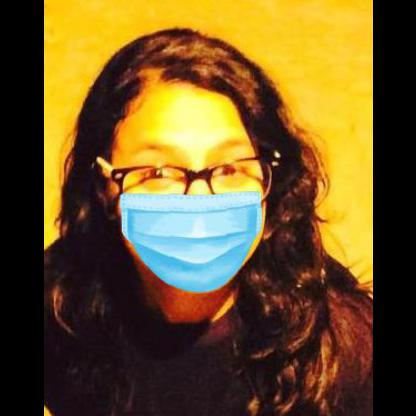Surgical Mask: (105, 121, 271, 280)
